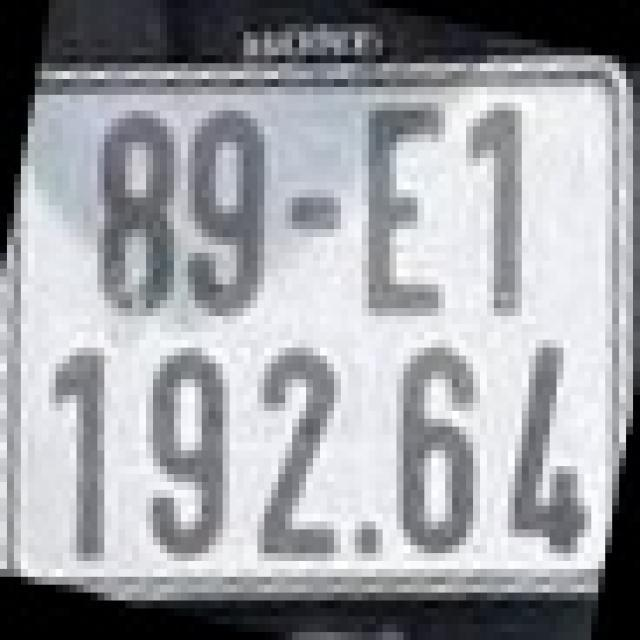1: (459, 95, 536, 316), (48, 340, 118, 561)
2: (250, 340, 341, 561)
4: (501, 340, 592, 554)
6: (390, 340, 480, 554)
8: (90, 102, 181, 316)
9: (181, 102, 271, 316), (146, 340, 230, 554)
E: (362, 95, 452, 316)
